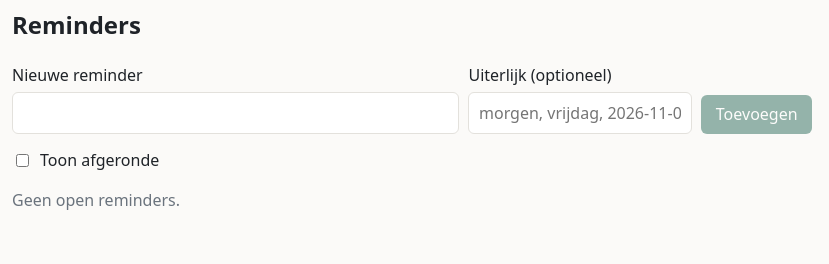
it: RemindersPage › shows done reminders when asked
Expected: the text "Geen open reminders." is shown, [12, 189, 180, 211]
Click the checkbox labelled "Toon afgeronde" at (22, 160), box [16, 154, 29, 166]
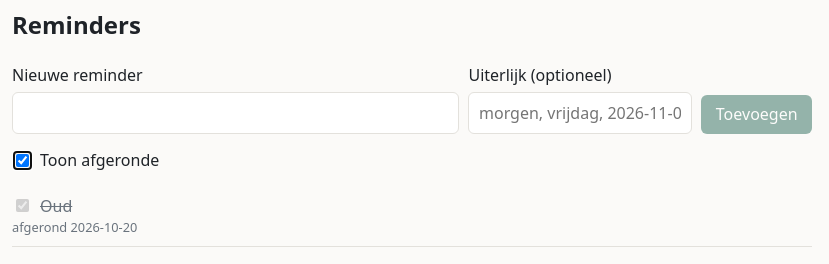
Result: the checkbox labelled "Oud" is checked at [16, 199, 29, 212]
Result: the checkbox labelled "Oud" is disabled at [16, 199, 29, 212]
Result: the text "afgerond 2026-10-20" is shown at [12, 218, 137, 236]
